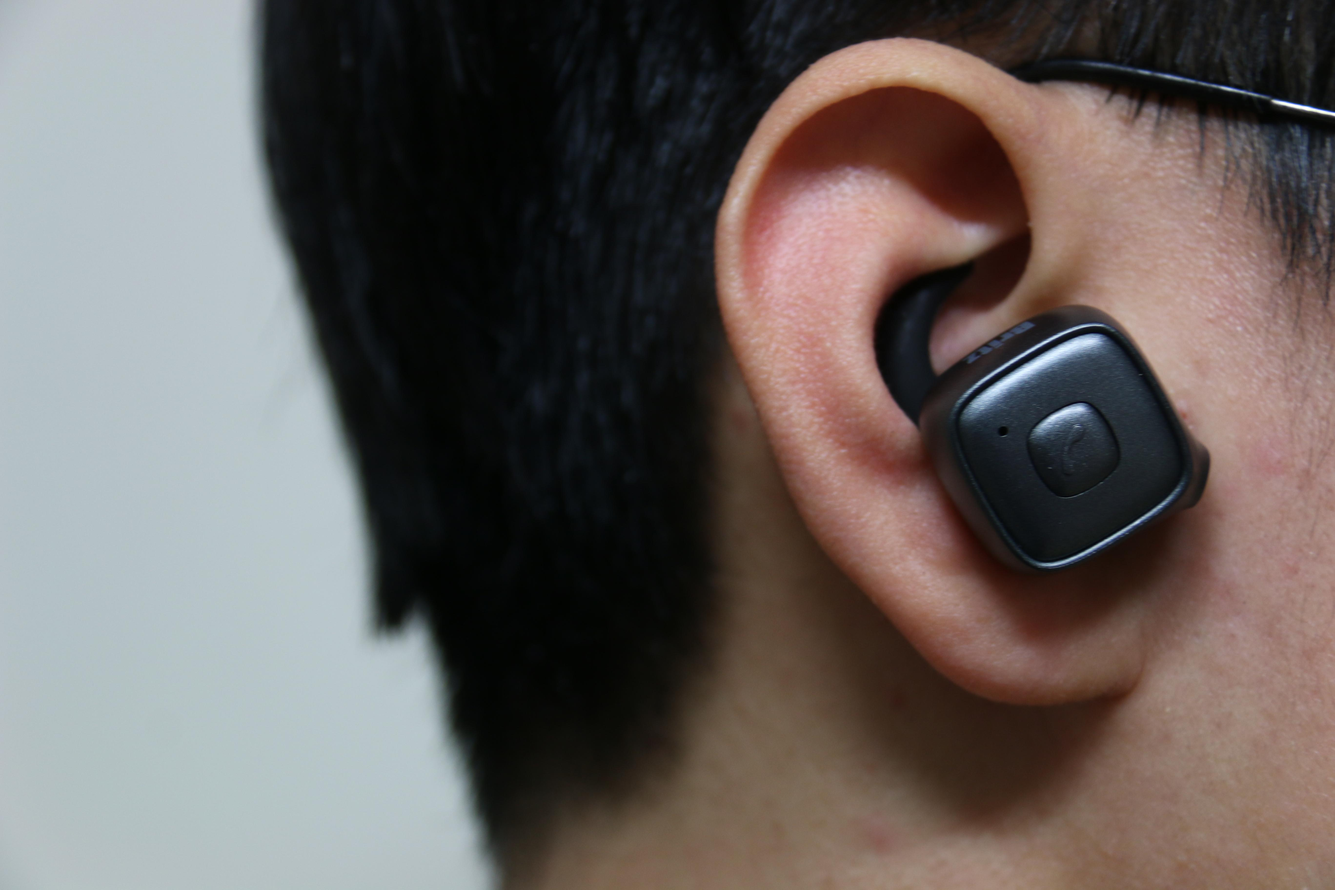earphone: (869, 257, 1222, 589)
